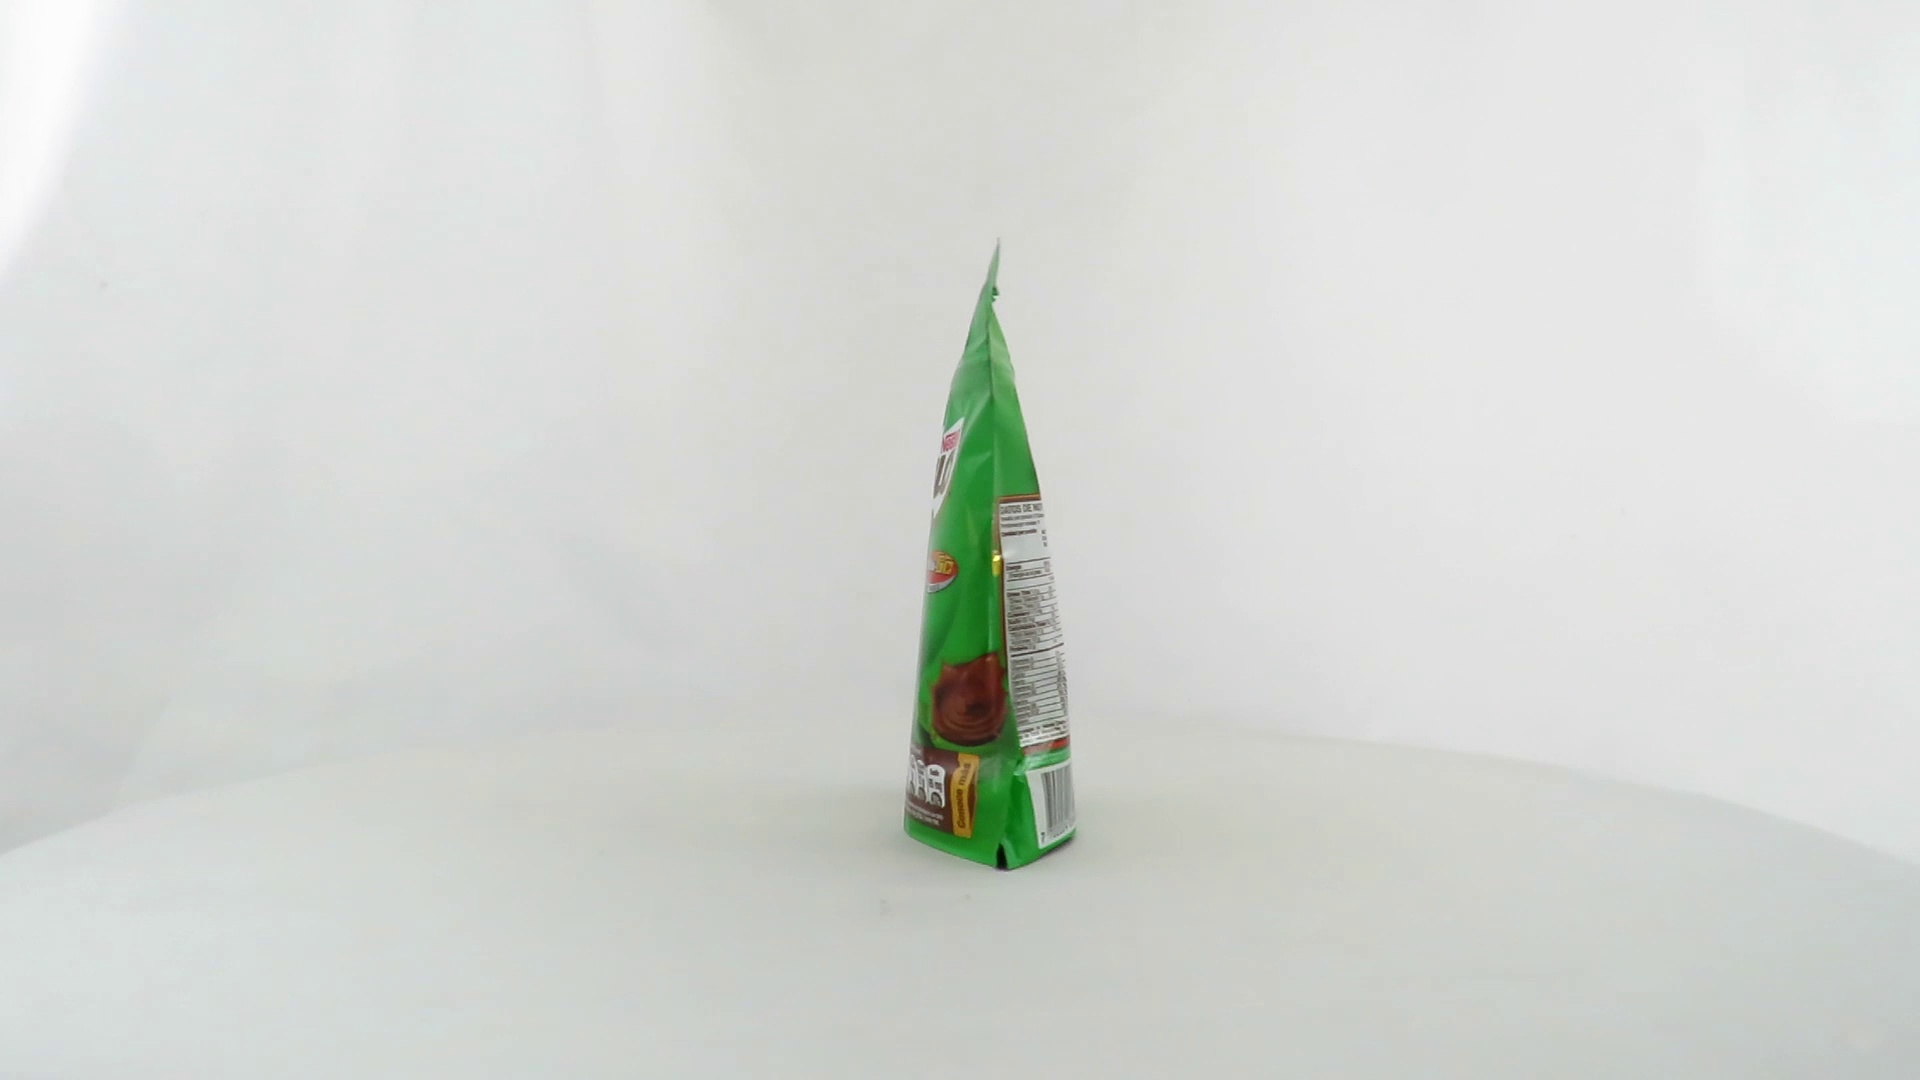COL0170203DYP10000: (898, 232, 1083, 878)
